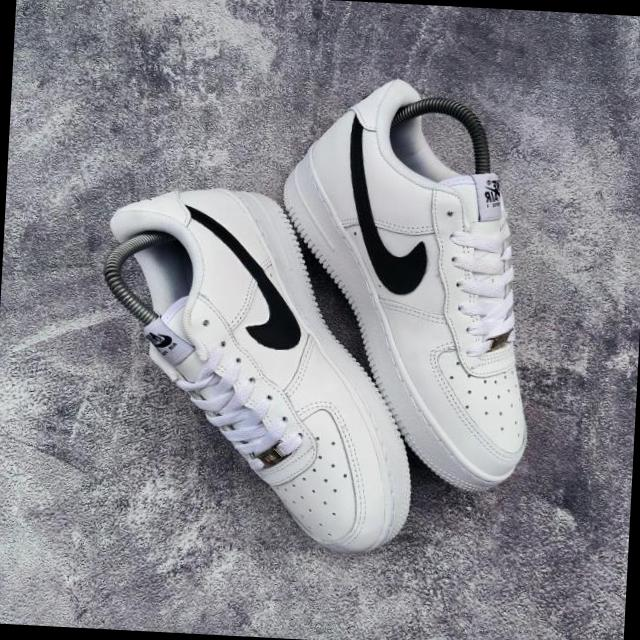nike_fake_airforce: (81, 179, 428, 559), (261, 73, 546, 496)
